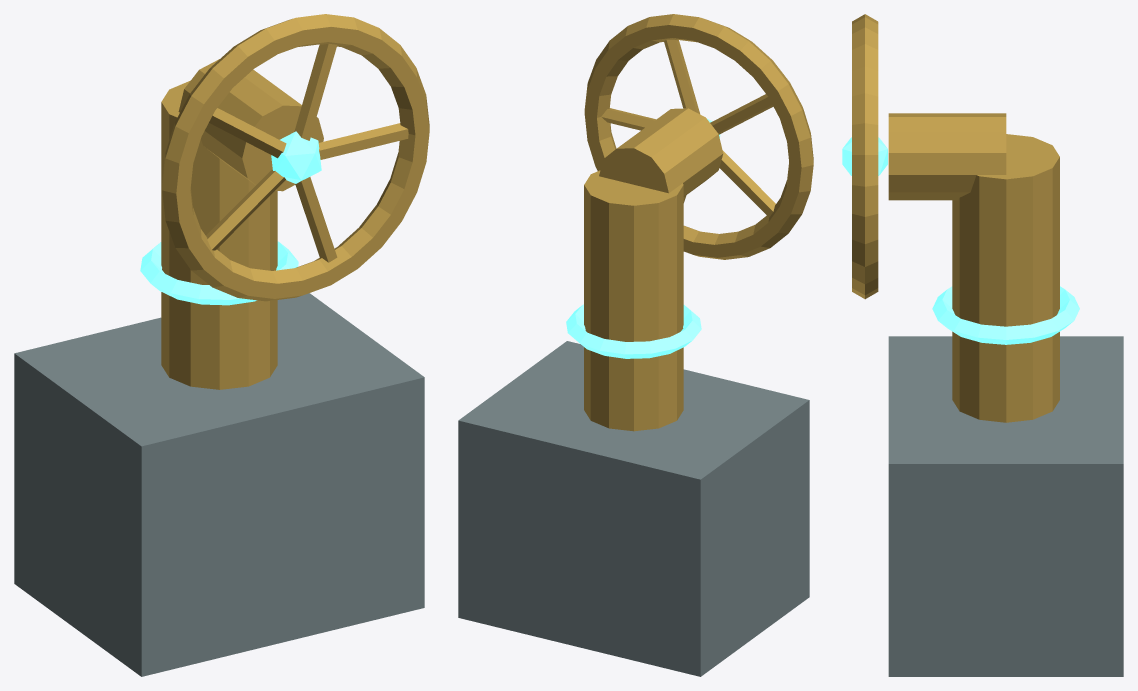
Rendered from valve.glb.
3 views of the same model, side by side, from view 1: azimuth 30°, elevation 25°; view 2: azimuth 150°, elevation 25°; view 3: azimuth 270°, elevation 25° (orthographic). The views are drawn at different scales.
Parts seen in each view (by area): view 1: ValveBody, ValveWheel; view 2: ValveBody, ValveWheel; view 3: ValveBody, ValveWheel.
Part boxes in pixels (<box>): ValveBody: <box>14,59,424,676</box>; ValveWheel: <box>162,14,429,301</box>; ValveBody: <box>458,108,809,676</box>; ValveWheel: <box>584,14,813,259</box>; ValveBody: <box>888,113,1123,676</box>; ValveWheel: <box>842,14,887,299</box>.
Size of the model in its own units: 0.9 by 1.92 by 0.8381.
